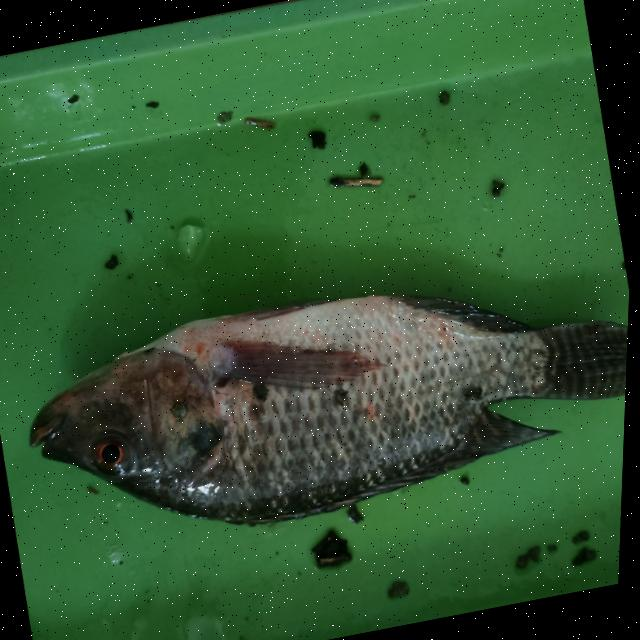Fresh: (122, 276, 458, 538), (89, 430, 146, 482)
